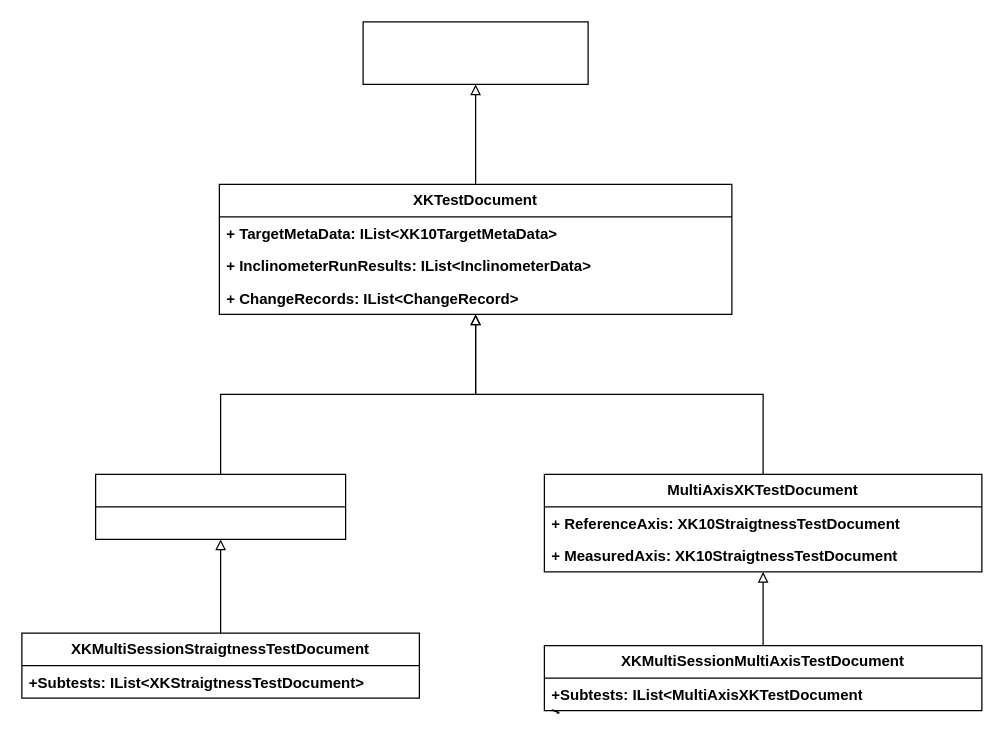
The diagram is 1004 pixels wide and 743 high, and some of its shapes have lost their labels. Here are the shapes that lost their labels. From the top down, the centre of each, then its label:
At (475,52): "«interface» ITestDocument".
At (220,506): "XKStraigtnessTestDocument".
